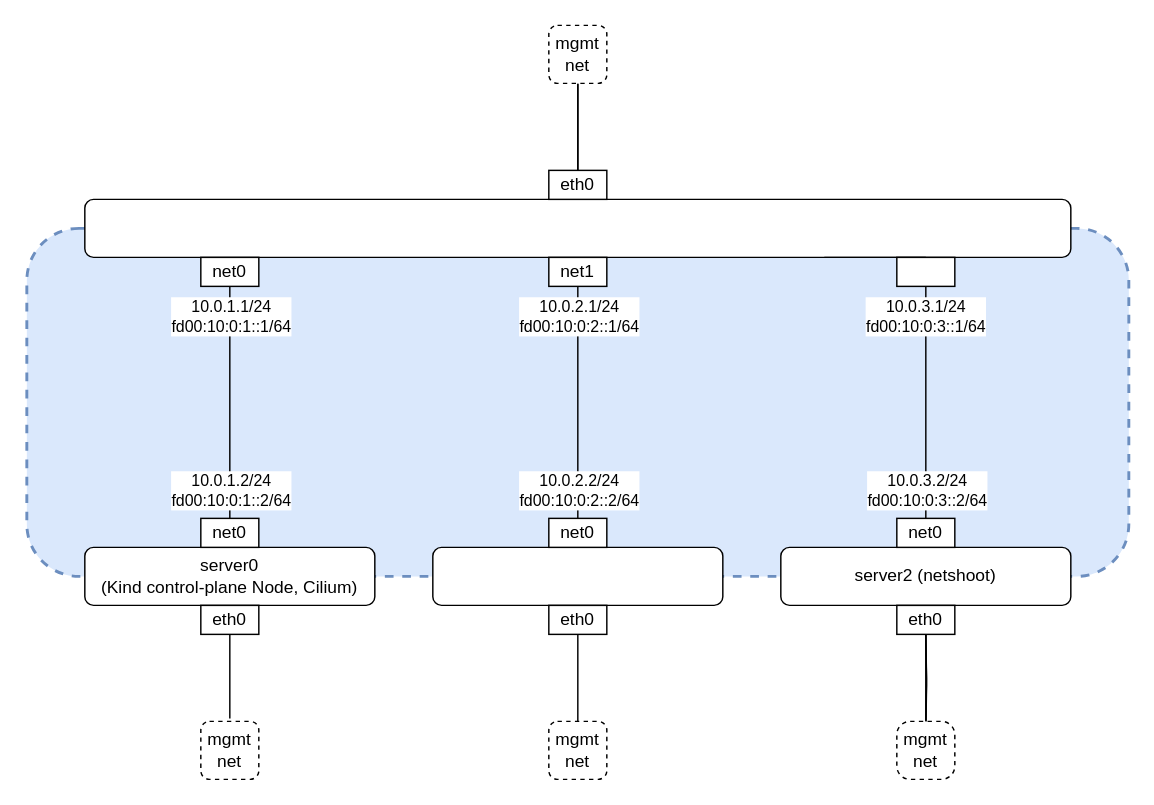
The diagram is 1154 pixels wide and 805 high, and some of its shapes have lost their labels. The shapes that lost their labels are listed below. From the top down, each one's box as (x1, y1, x2, y2) in pixels, then its label:
(83, 198, 1071, 257): router0 (FRR)
(895, 256, 955, 286): net2
(25, 226, 1130, 577): Lab Network (10.0.0.0/8, fd00::/16)
(431, 546, 723, 605): server1 (Kind worker Node, Cilium)
